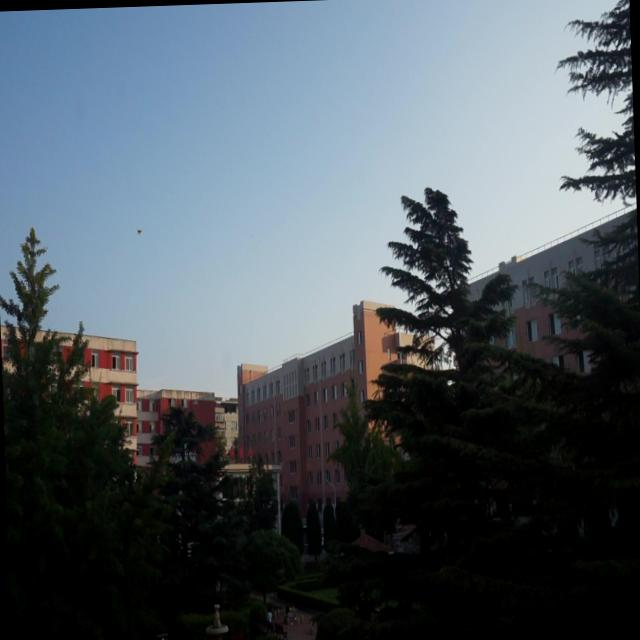drone: (135, 224, 144, 240)
